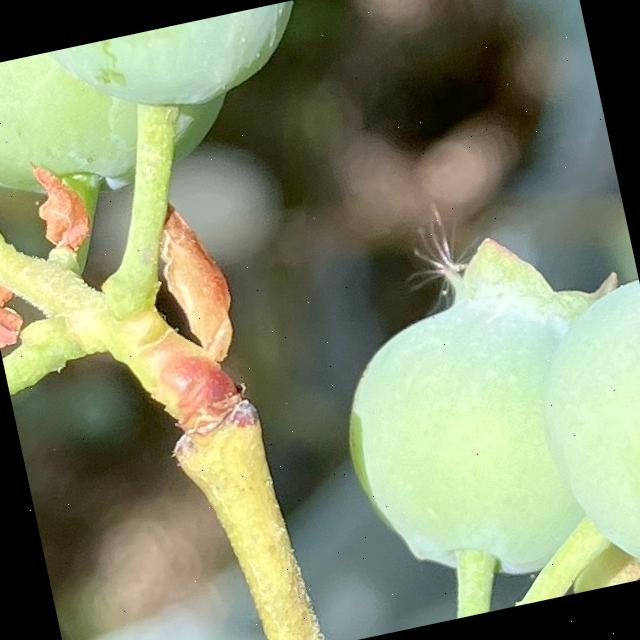Blueberries: (29, 0, 336, 139)
